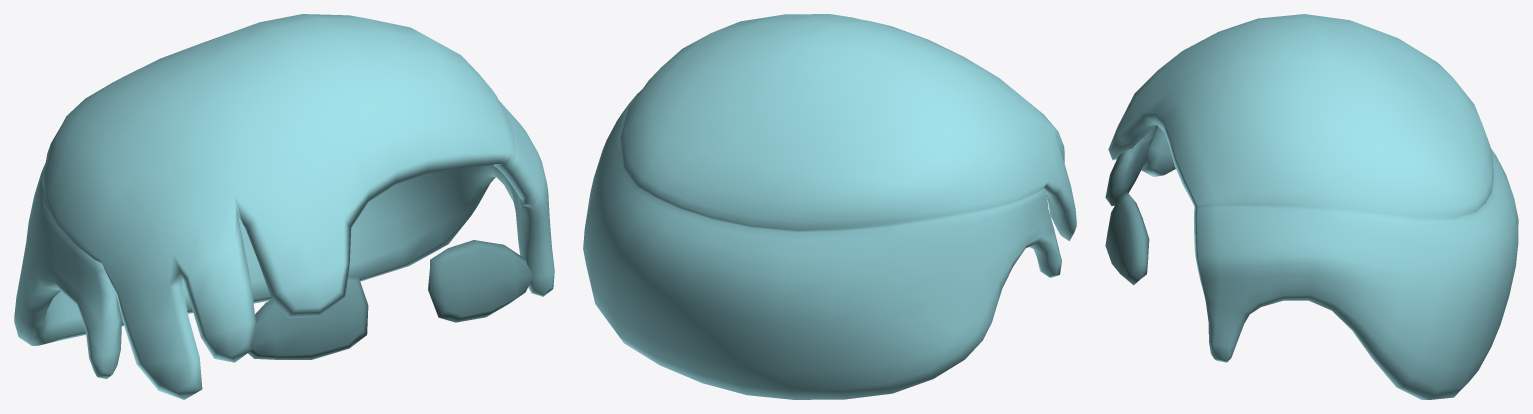
Rendered from sac01.fbx.
3 renders of one model, left to right at view 1: azimuth 30°, elevation 25°; view 2: azimuth 150°, elevation 25°; view 3: azimuth 270°, elevation 25°, orthographic. The views are drawn at different scales.
Visible parts, largest first — view 1: sac01; view 2: sac01; view 3: sac01.
Part boxes in pixels (<box>): sac01: <box>14,14,554,399</box>; sac01: <box>583,14,1076,399</box>; sac01: <box>1105,14,1518,399</box>.
Bounding box in the file's own units: 3.63 × 2.6 × 3.22.
